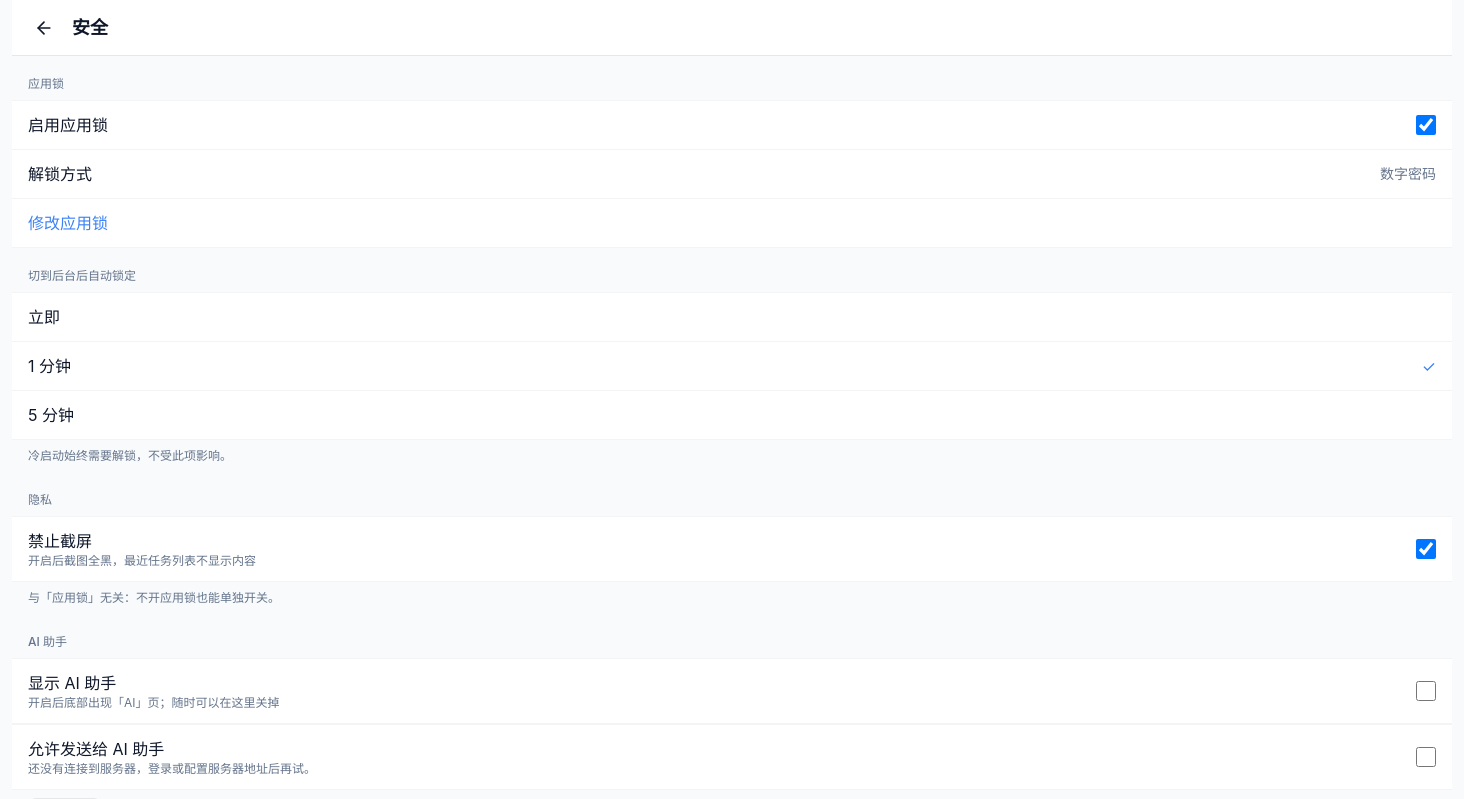
SecurityPage › R69：系统层切换失败时页面提示可达（那条分支不再是死代码）
The image size is (1464, 799).
What coordinates should you click on to do the following:
click the checkbox with test id "screenshot-protection"
I would click on:
 (1426, 549)
Its box is [1416, 539, 1436, 559].
(page scrolled)
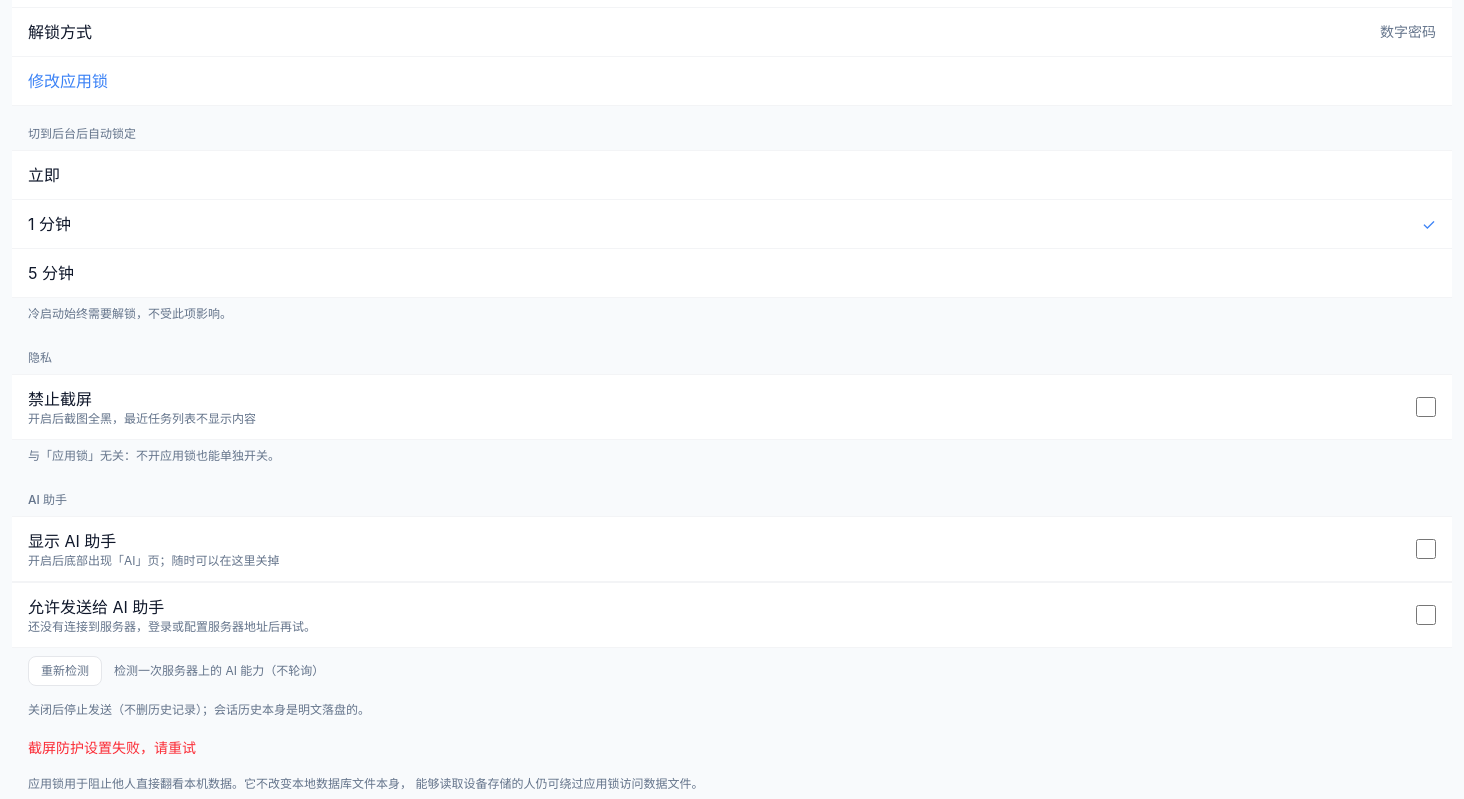
Expected: the checkbox with test id "screenshot-protection" is not checked, [1416, 397, 1436, 417]
Expected: the message with test id "security-error" reads "截屏防护设置失败，请重试", [28, 739, 196, 756]
